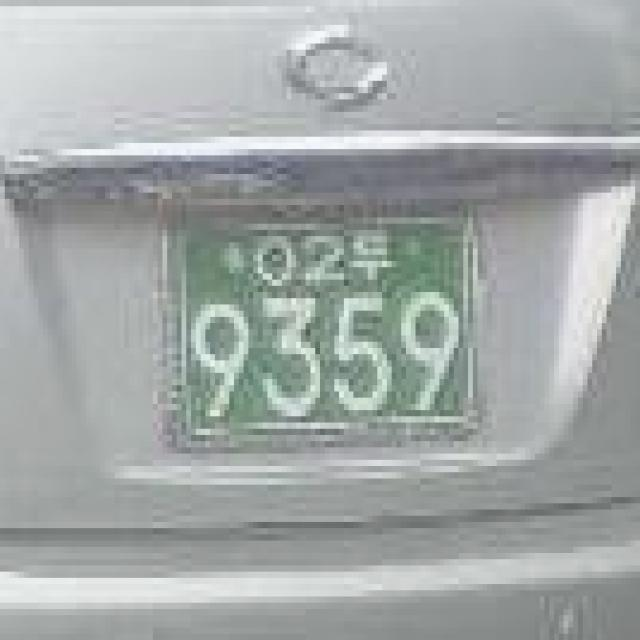illegal_plate: (151, 197, 490, 463)
